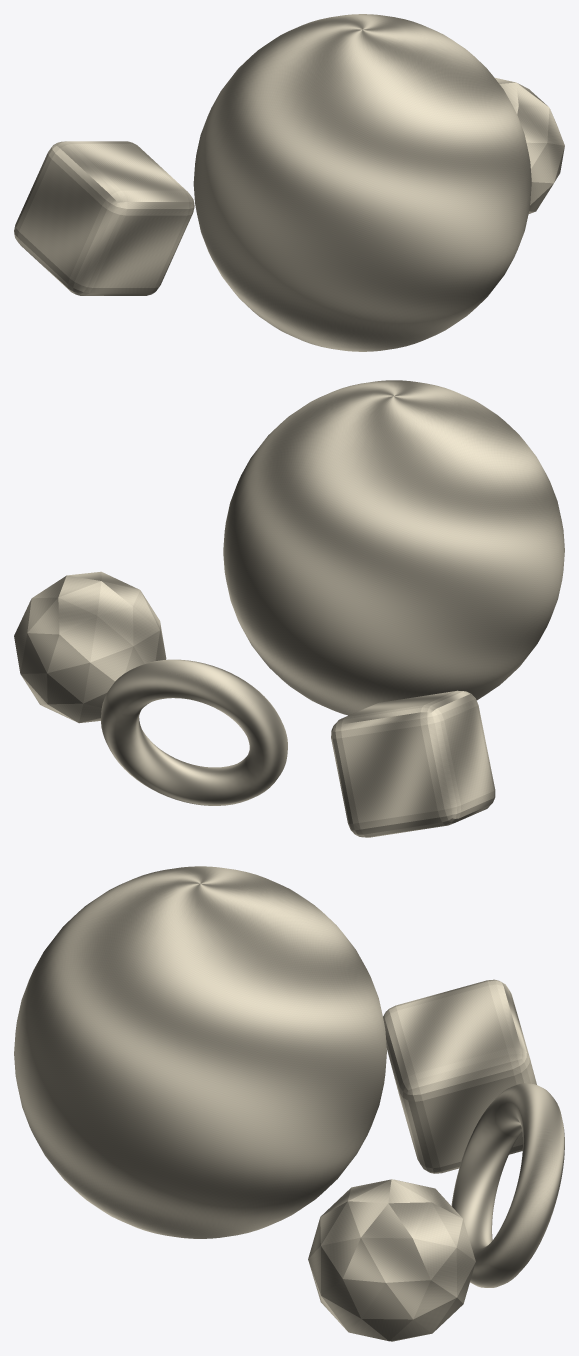
3 views of the same model, one above another, from view 1: azimuth 30°, elevation 25°; view 2: azimuth 150°, elevation 25°; view 3: azimuth 270°, elevation 25° (orthographic). The views are drawn at different scales.
Visible parts, largest first — view 1: G04_0_sphere, G04_1_cube, G04_3_ico; view 2: G04_0_sphere, G04_1_cube, G04_2_torus, G04_3_ico; view 3: G04_0_sphere, G04_3_ico, G04_1_cube, G04_2_torus.
Part boxes in pixels (bbox=[...]): G04_0_sphere: bbox=[193, 14, 531, 351]; G04_1_cube: bbox=[14, 141, 194, 295]; G04_3_ico: bbox=[495, 78, 564, 213]; G04_0_sphere: bbox=[223, 380, 564, 715]; G04_1_cube: bbox=[331, 690, 495, 837]; G04_2_torus: bbox=[101, 659, 287, 805]; G04_3_ico: bbox=[14, 571, 166, 723]; G04_0_sphere: bbox=[14, 866, 386, 1238]; G04_3_ico: bbox=[308, 1179, 475, 1341]; G04_1_cube: bbox=[383, 979, 536, 1173]; G04_2_torus: bbox=[451, 1083, 564, 1287].
Size of the model in its own units: 3.74 by 2.41 by 3.34.
1 material, 1 textured.
